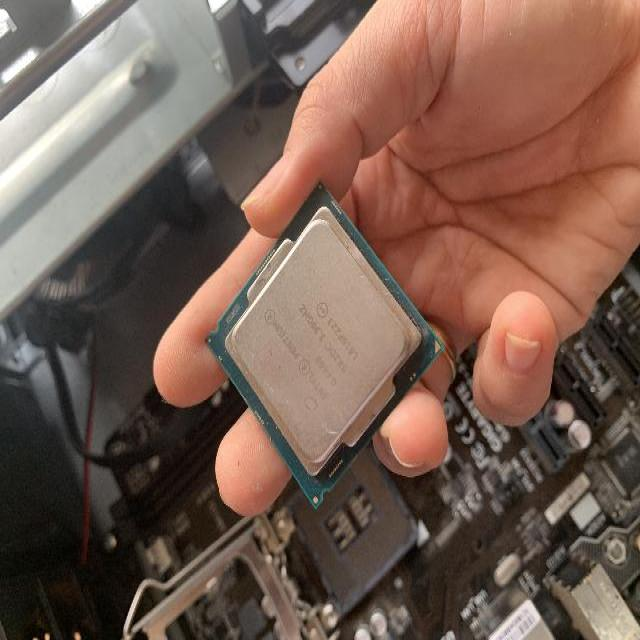CPU: (202, 175, 444, 509)
